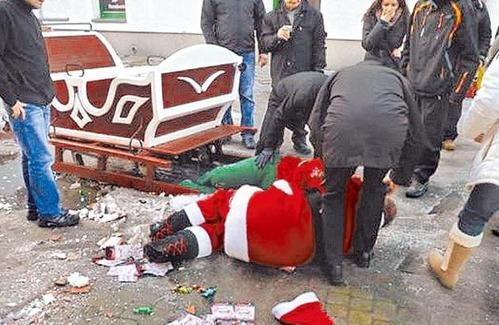falling: (141, 147, 358, 275)
